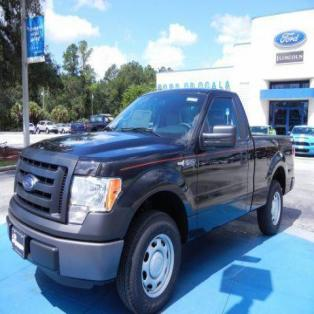Auto: (6, 88, 294, 313)
